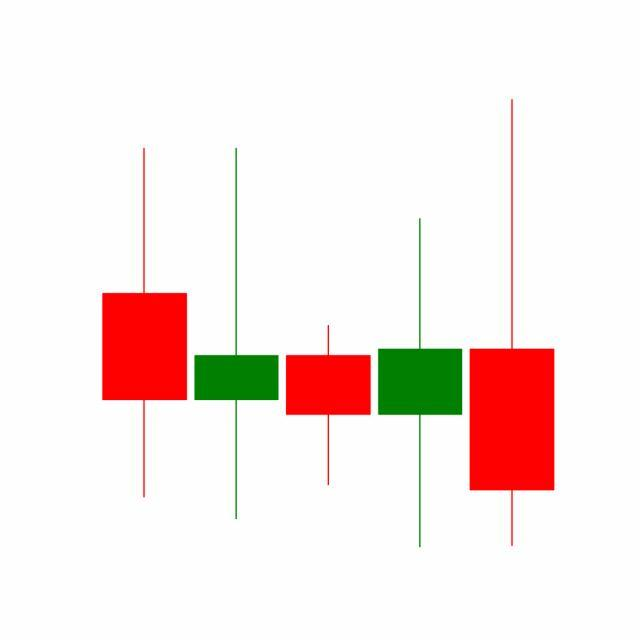Spinning Top: (374, 214, 468, 552)
